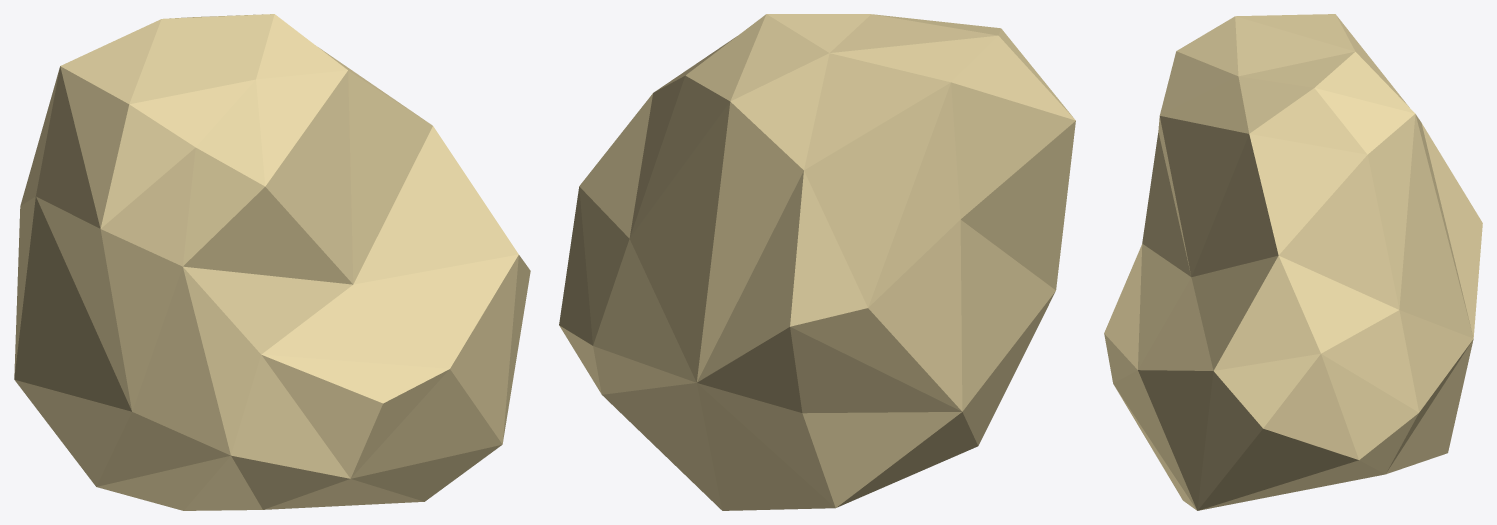
The model's file is Rock (50).fbx.
3 views of the same model, side by side, from view 1: azimuth 30°, elevation 25°; view 2: azimuth 150°, elevation 25°; view 3: azimuth 270°, elevation 25° (orthographic). The views are drawn at different scales.
Parts seen in each view (by area): view 1: Asteroid49; view 2: Asteroid49; view 3: Asteroid49.
Part boxes in pixels (x1,y1,x2,y2): Asteroid49: [14, 14, 530, 510]; Asteroid49: [559, 14, 1075, 510]; Asteroid49: [1104, 14, 1482, 510].
Bounding box in the file's own units: 148 × 135 × 121.
